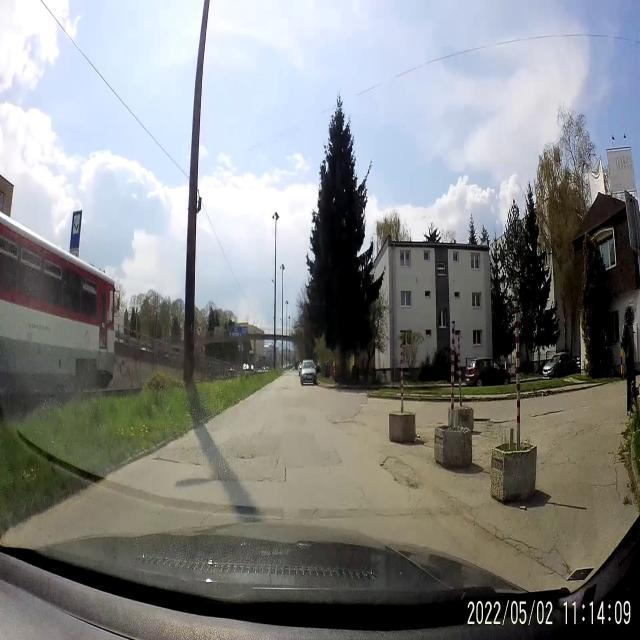Pothole: (379, 453, 424, 492), (329, 414, 362, 428), (151, 454, 182, 467), (257, 474, 277, 486), (236, 453, 256, 462), (190, 458, 203, 468)
